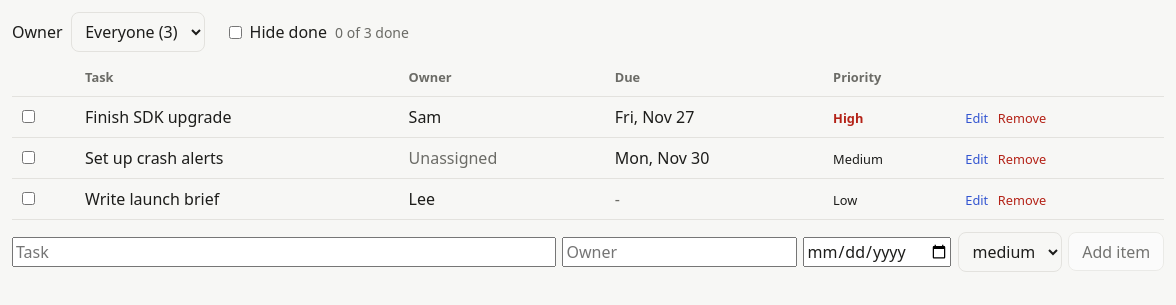
Test case: ActionItemsTable editing › saving without changes makes no request; cancel discards
Click the button with aria-label "Edit: Write launch brief" at (977, 200), box [960,191,993,210]
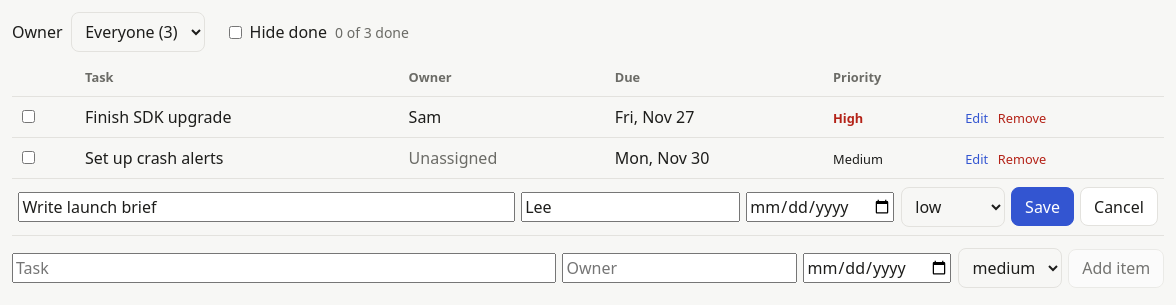
Click the button "Save" at (1043, 207), box [1011,187,1074,226]
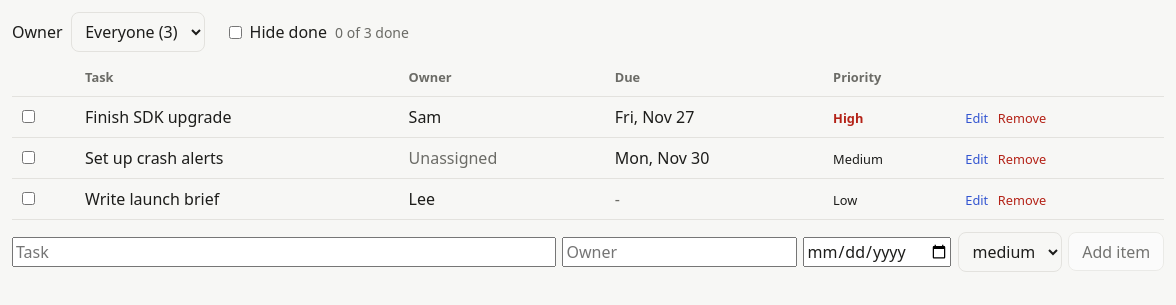
Click the button with aria-label "Edit: Write launch brief" at (977, 200), box [960,191,993,210]
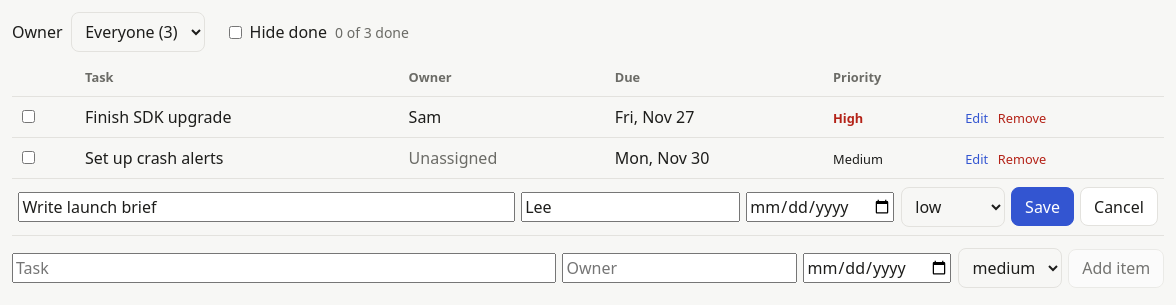
Clear the field named "Edit task" at (267, 207), box [18,192,515,222]
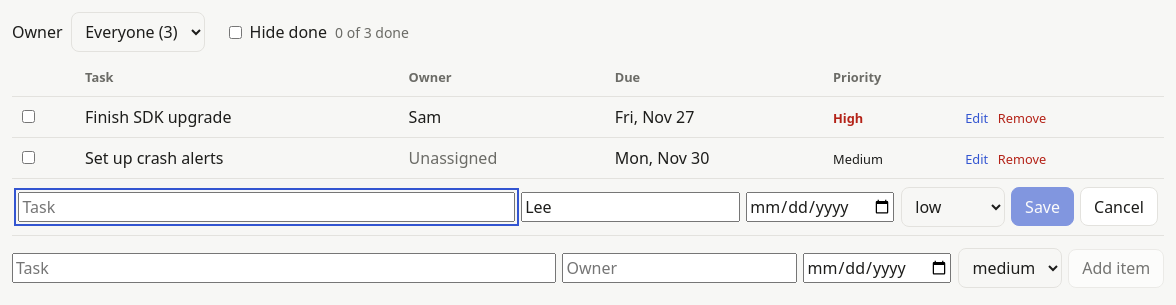
Expected: the button "Save" is disabled, [1011,187,1074,226]
Click the button "Cancel" at (1119, 207), box [1080,187,1158,226]
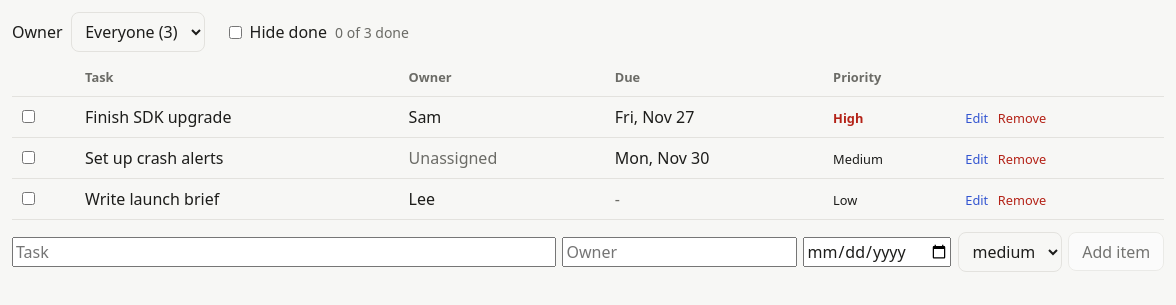
Expected: the text "Write launch brief" is shown, [85,188,219,210]
